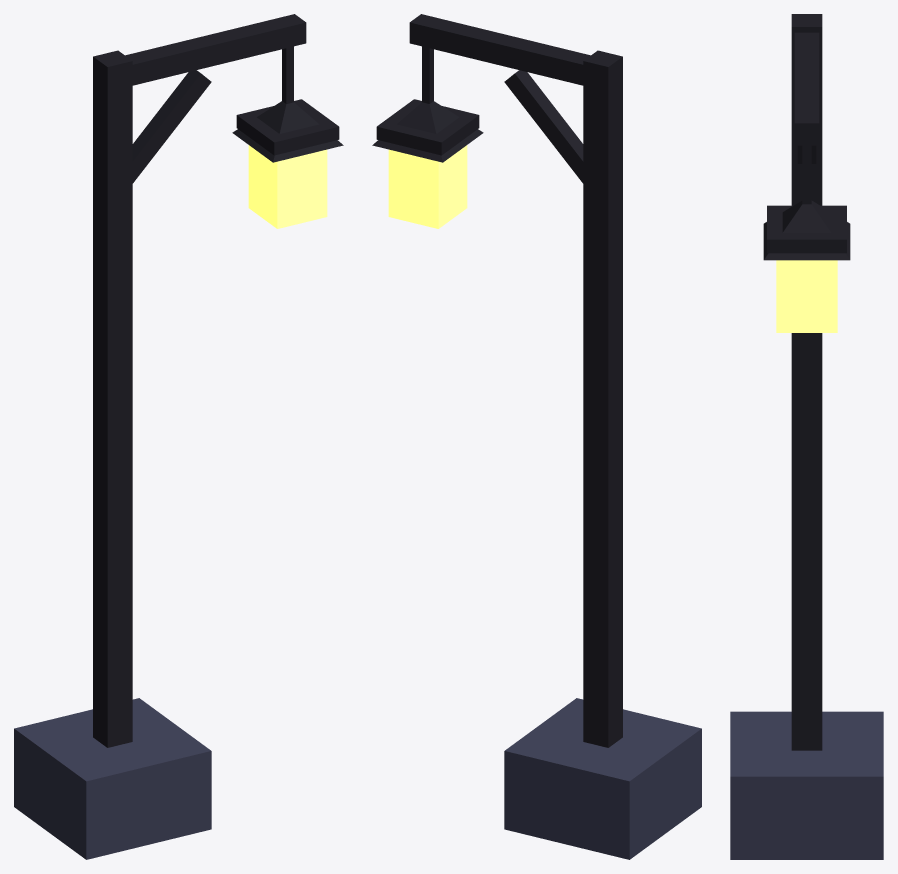
File: lantern-post.glb
3 views of the same model, side by side, from view 1: azimuth 30°, elevation 25°; view 2: azimuth 150°, elevation 25°; view 3: azimuth 270°, elevation 25° (orthographic). The views are drawn at different scales.
Parts seen in each view (by area): view 1: cw_paint, cw_glow; view 2: cw_paint, cw_glow; view 3: cw_paint, cw_glow.
Part boxes in pixels (<box>): cw_paint: <box>14,14,343,859</box>; cw_glow: <box>248,145,327,228</box>; cw_paint: <box>372,14,701,859</box>; cw_glow: <box>388,145,467,228</box>; cw_paint: <box>730,14,883,859</box>; cw_glow: <box>776,260,837,332</box>.
Bounding box in the file's own units: 1.09 × 2.9 × 0.5001.
